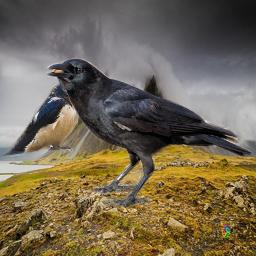Crow: (46, 57, 252, 208)
Swallow: (2, 82, 87, 157)
